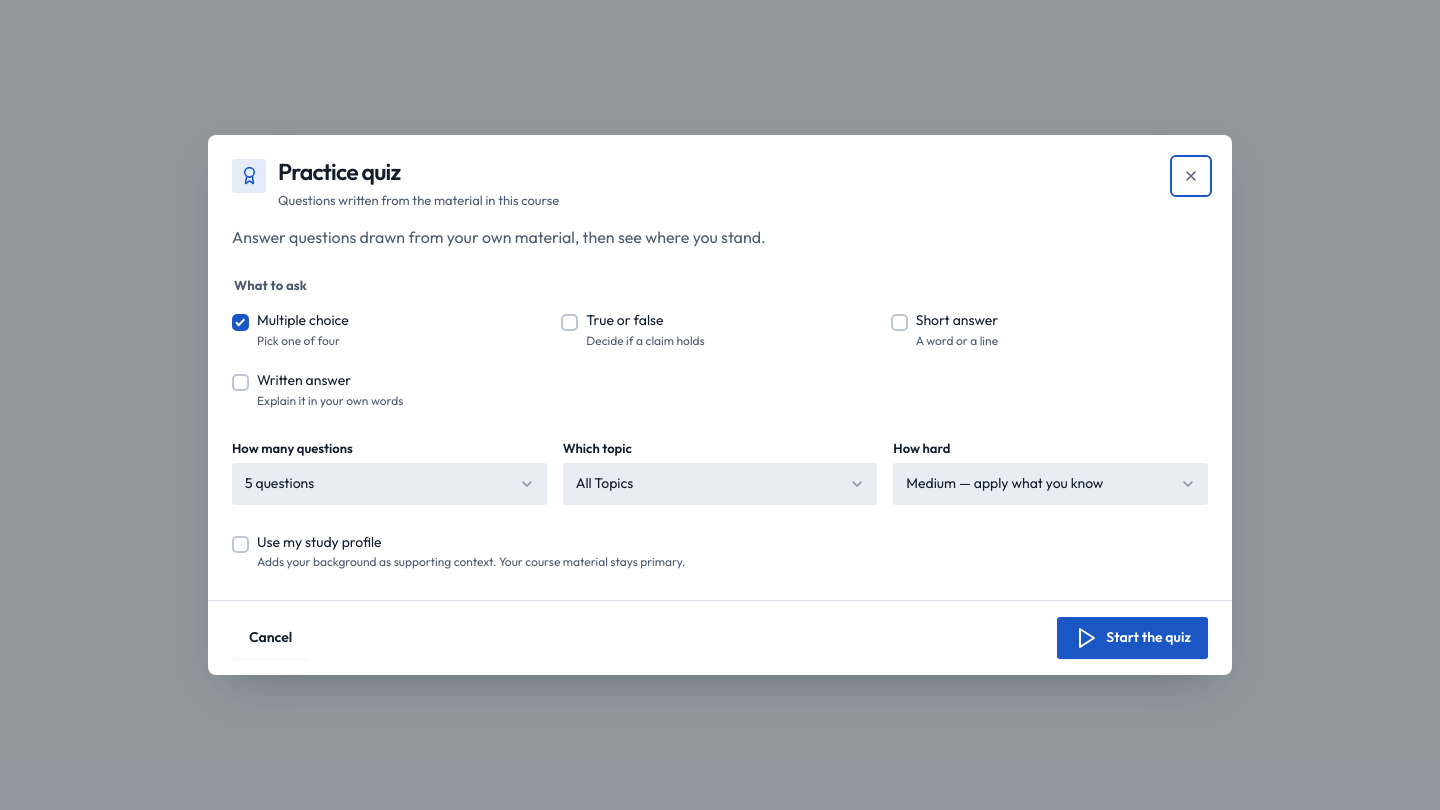
Scenario: when the quiz cannot be written › suggests something shorter when the model ran out of time
What coordinates should you click on to do the following:
click the button "Start the quiz"
I would click on:
 (1133, 638)
Its box is [1057,617,1208,659].
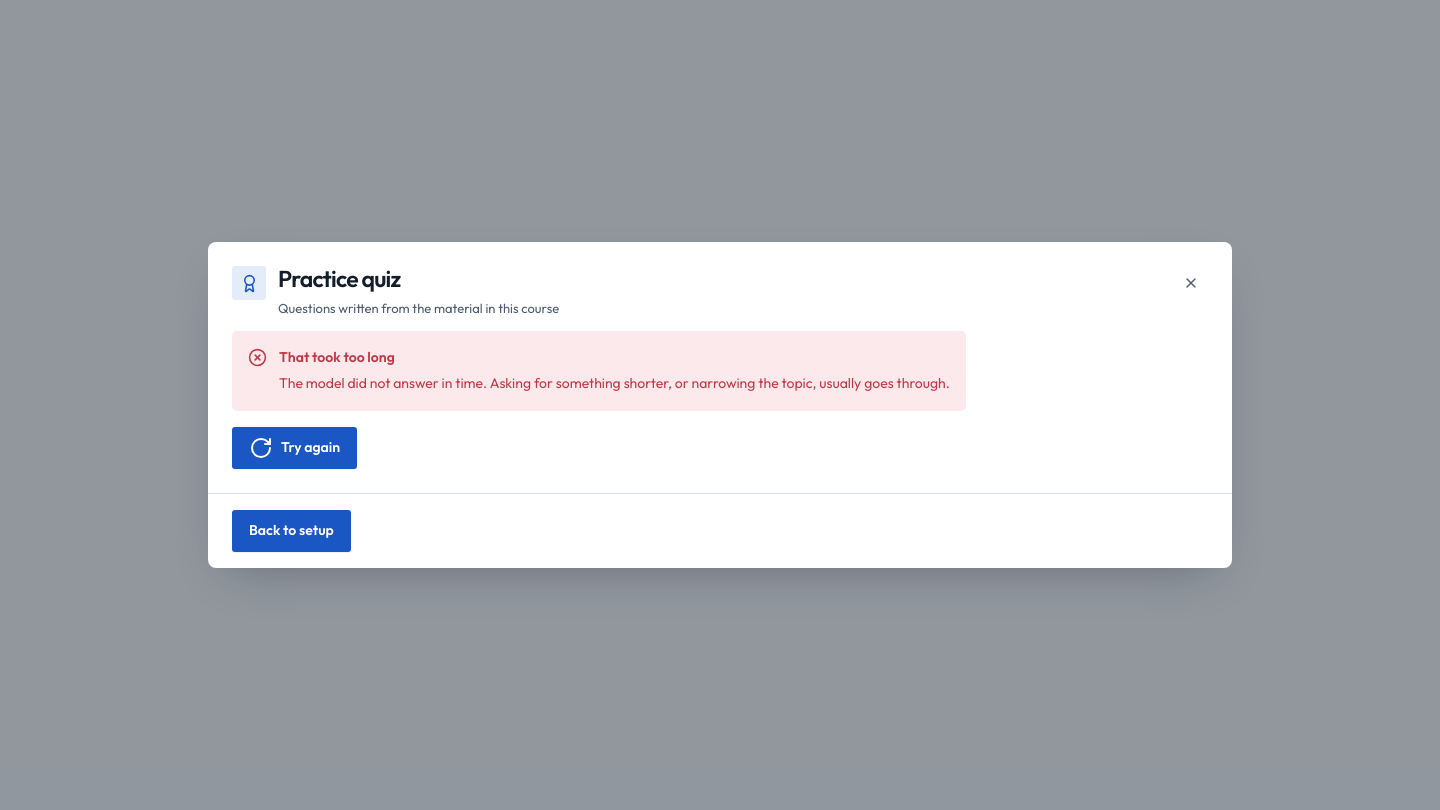
Now the text "That took too long" is shown, box [279,348,395,366]
Now the text "narrowing the topic" is shown, box [279,374,950,392]
